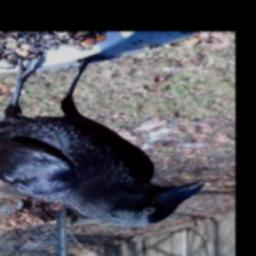Crow: (0, 52, 205, 227)
